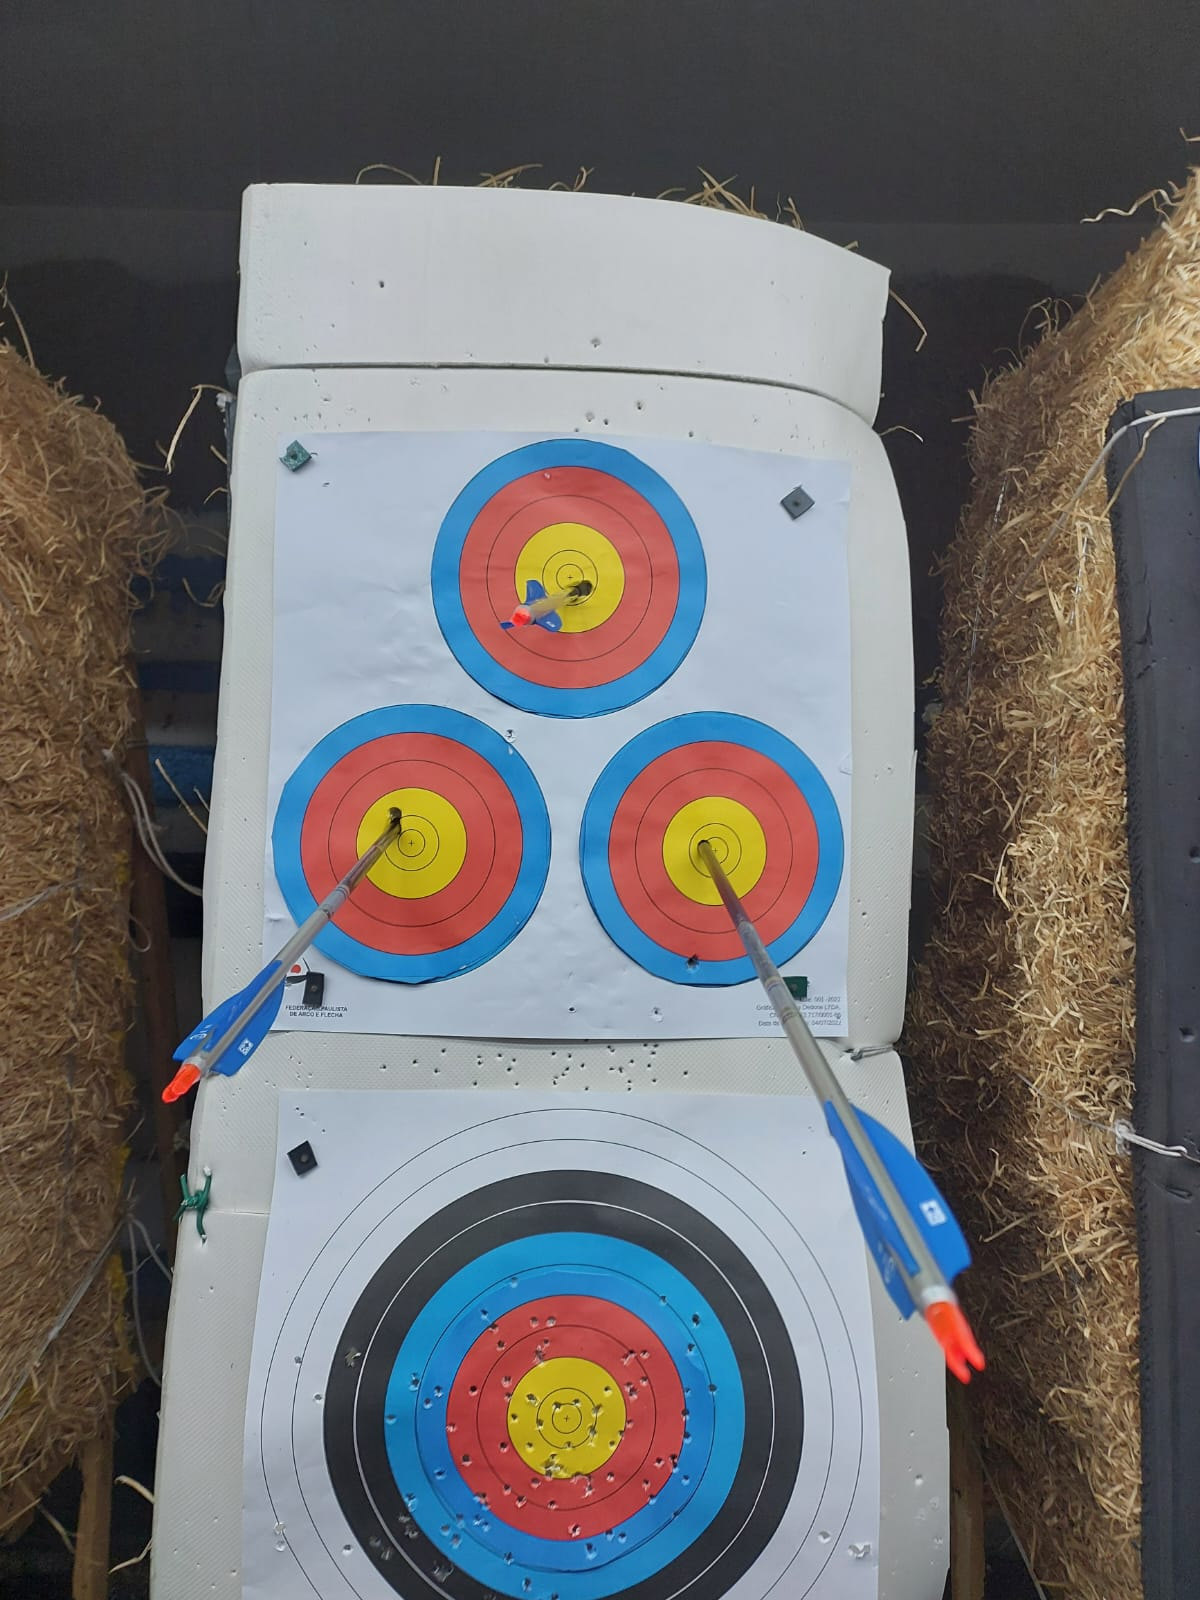10: (572, 714, 845, 1010), (435, 460, 718, 718)
9 linha 10: (295, 707, 541, 993)
